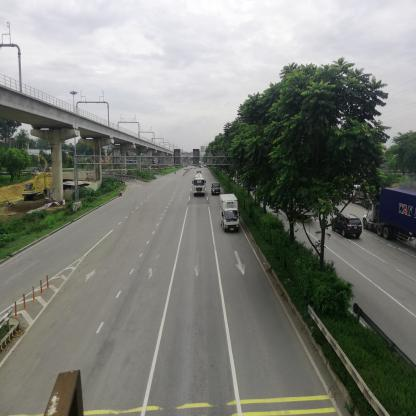car: (332, 214, 363, 241), (211, 184, 221, 195)
container: (364, 190, 416, 250)
motorbike: (119, 189, 123, 197)
truck: (220, 194, 241, 234), (194, 173, 206, 194)
